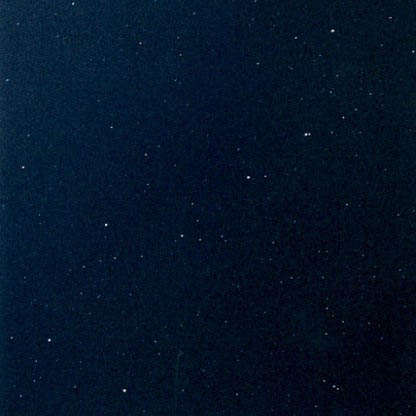Ursa Major: (237, 166, 261, 194), (165, 228, 193, 251), (108, 376, 133, 401), (39, 330, 65, 350), (296, 122, 317, 145), (325, 20, 345, 43), (97, 211, 113, 233)
